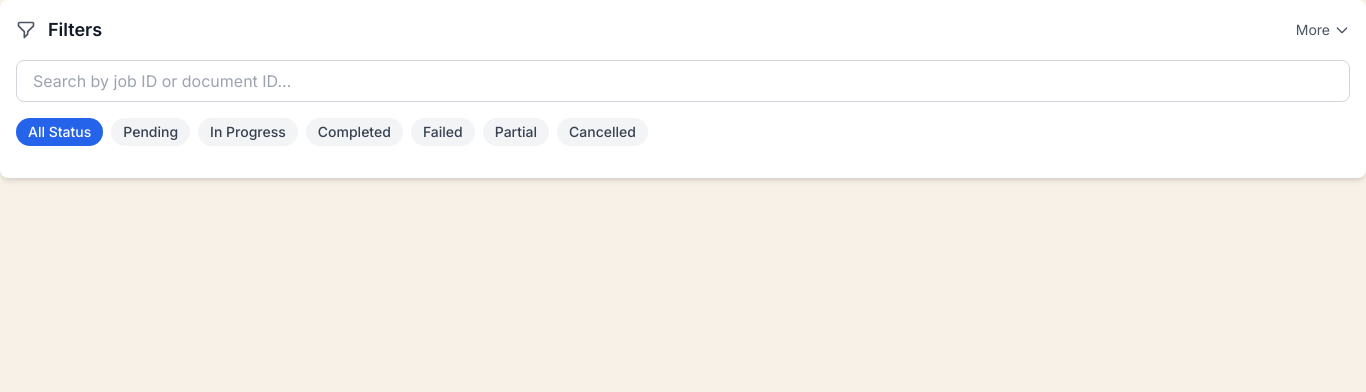
it: AdvancedJobFilters › Expand/Collapse Functionality › should collapse when Less clicked
Click the button "More": click(1323, 30) [1296,20,1350,40]
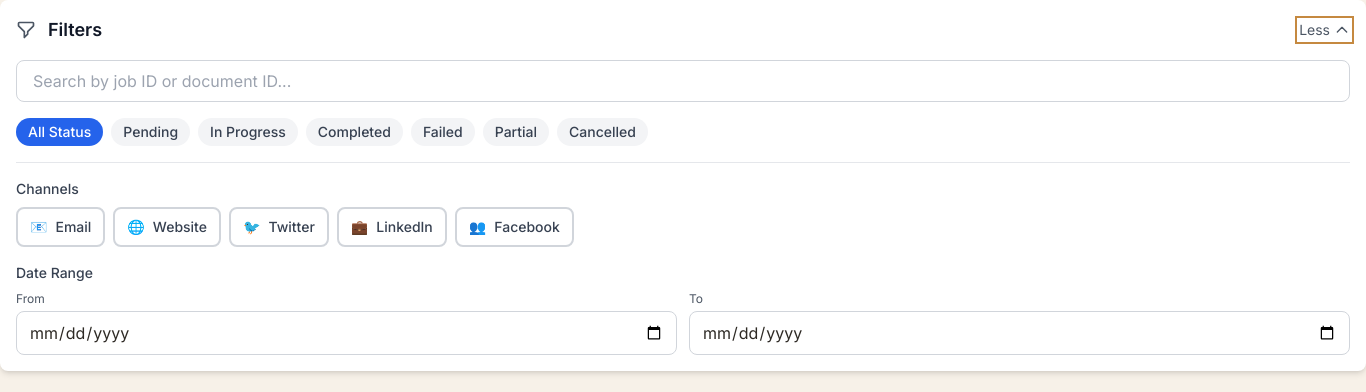
Check: the text "Channels" is shown, box [16,180,79,197]
Click the button "Less": click(1325, 30) [1299,20,1350,40]
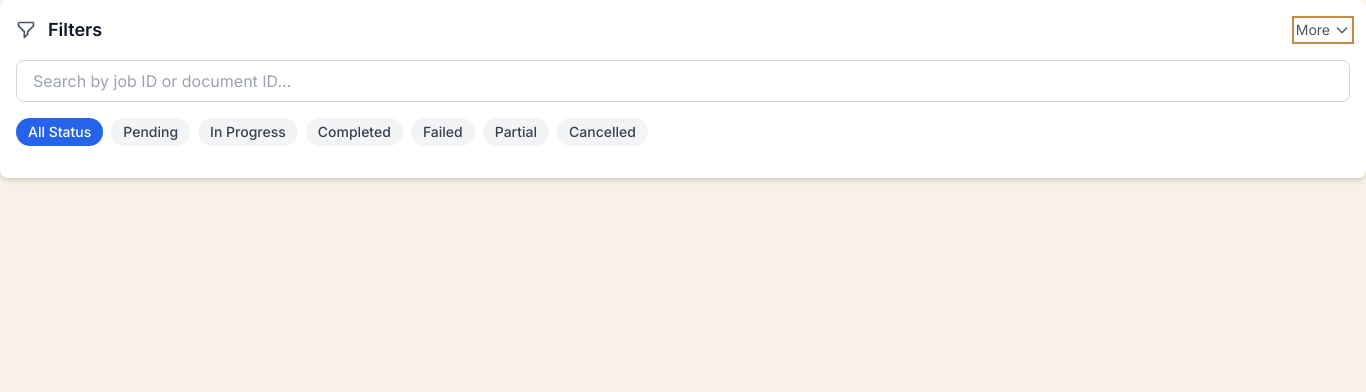
Check: the text "Channels" is gone
